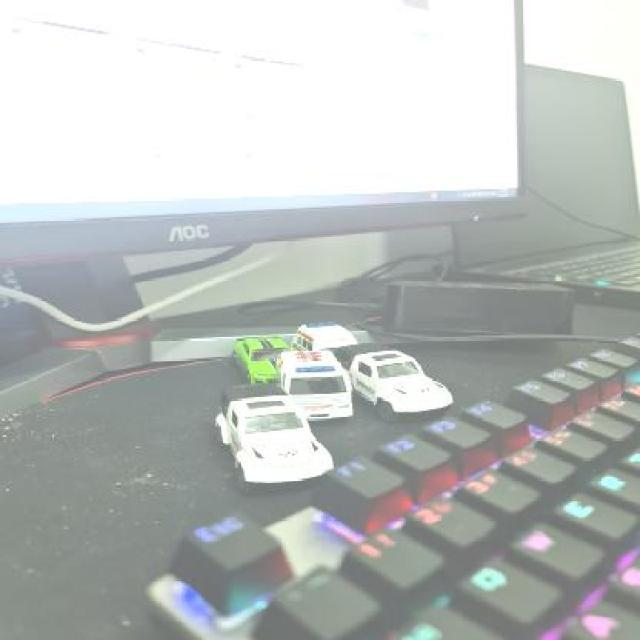car: (208, 385, 336, 493), (346, 346, 456, 423), (272, 347, 366, 422), (230, 331, 298, 387), (292, 316, 362, 356)
